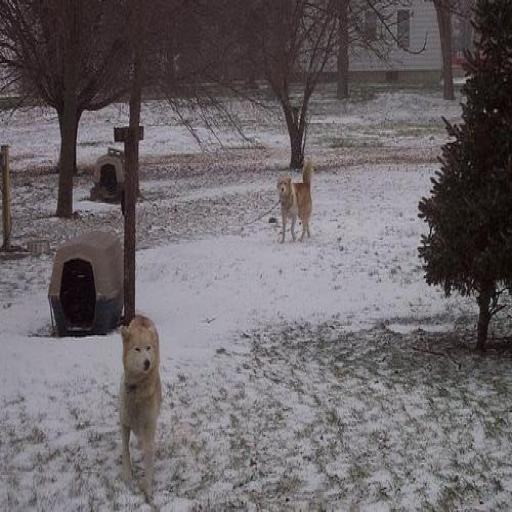dog_face: (121, 322, 157, 378)
